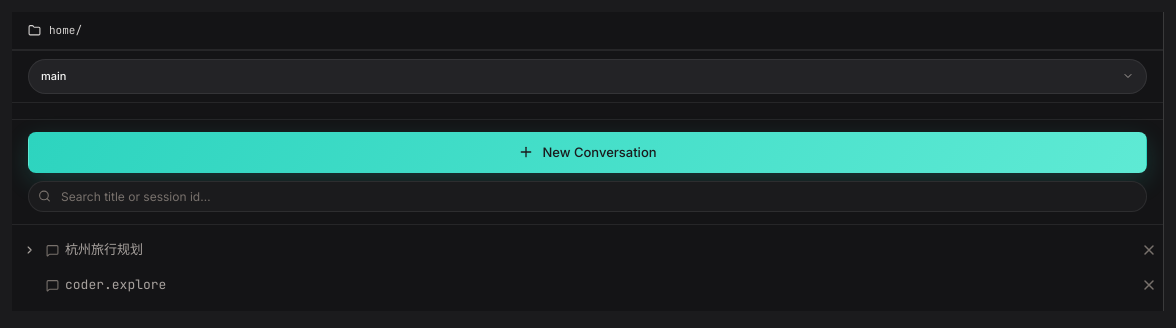
it: Sidebar search (PA-09) › matches keep a matching child and its parent (tree context)
The width and height of the screenshot is (1176, 328).
Type "trip.child" into the search field labelled "Search" at [588, 196], box x1=28 y1=180 x2=1147 y2=212
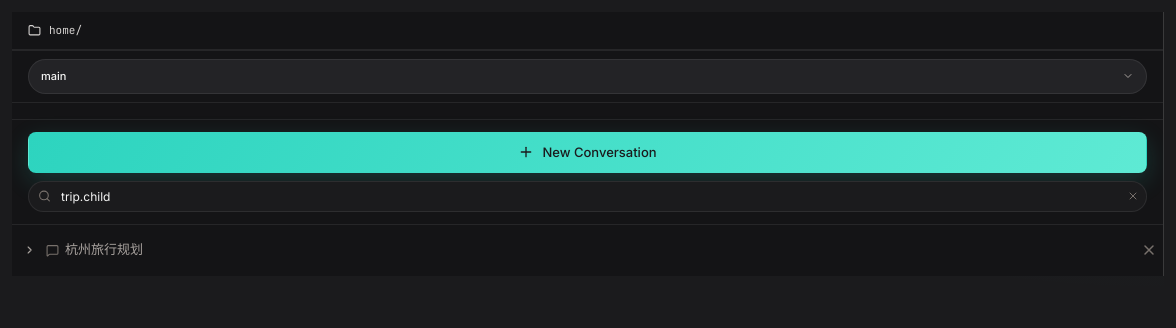
Check: the text "杭州旅行规划" is shown, box x1=65 y1=241 x2=143 y2=260
Check: the button "coder.explore" is gone
